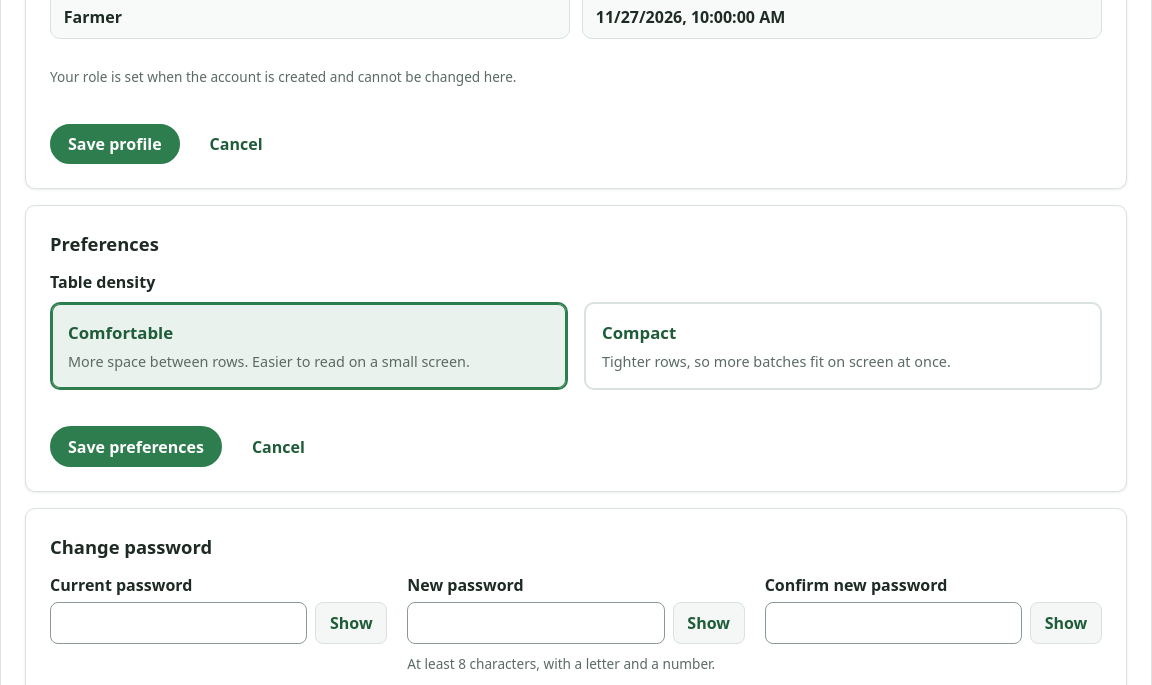
Test: AccountSettingsPage › saves the density preference and reports it
(page scrolled)
Click the radio button labelled "Compact Tighter rows, so more batches fit on screen at once.": (639, 332) 584,302 -> 1102,390
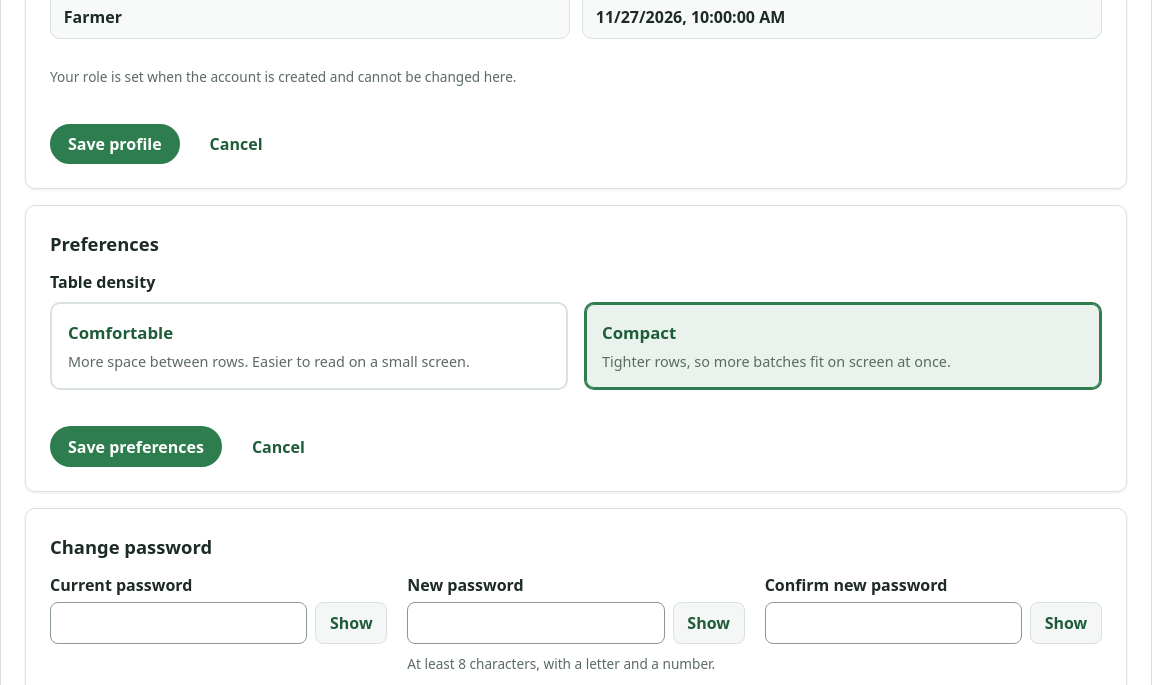
Click the button "Save preferences": (136, 447) 50,426 -> 222,467
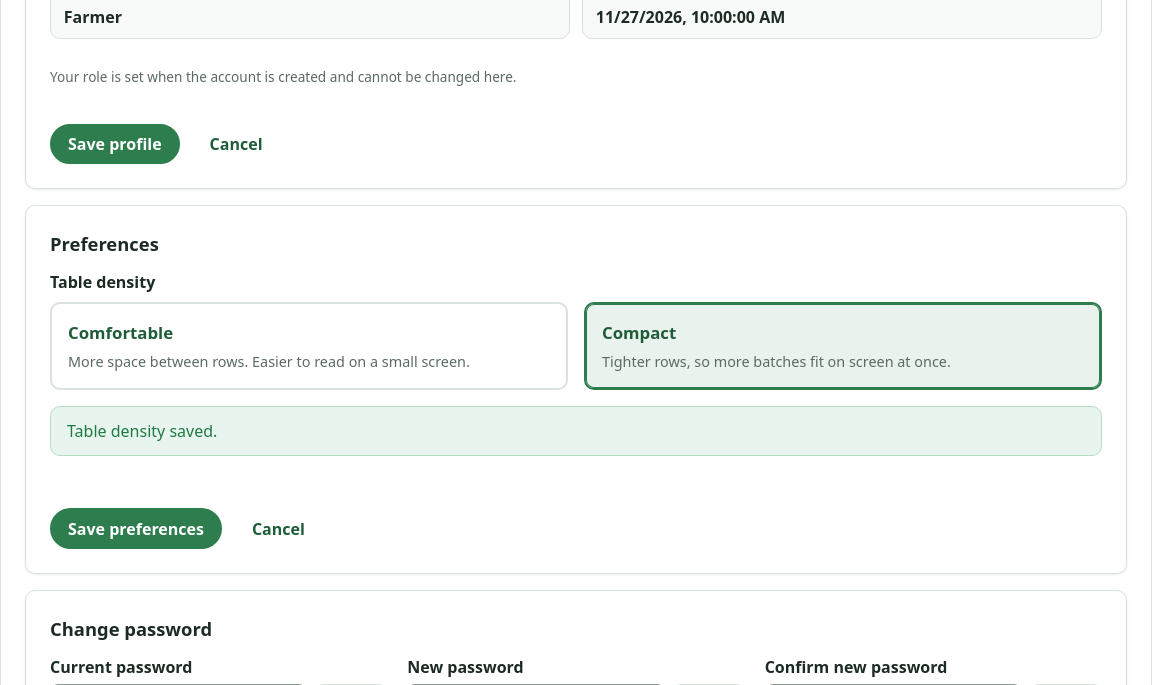
Expected: the text "Table density saved." is shown, 50,406 -> 1102,456
